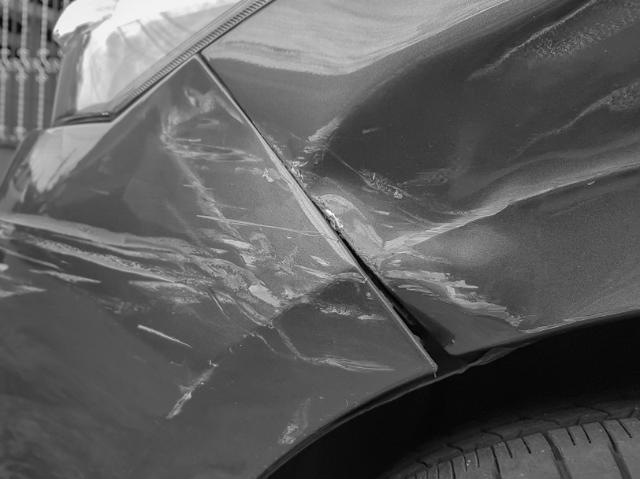Bumper: (9, 88, 379, 457)
Fender: (299, 41, 517, 329)
